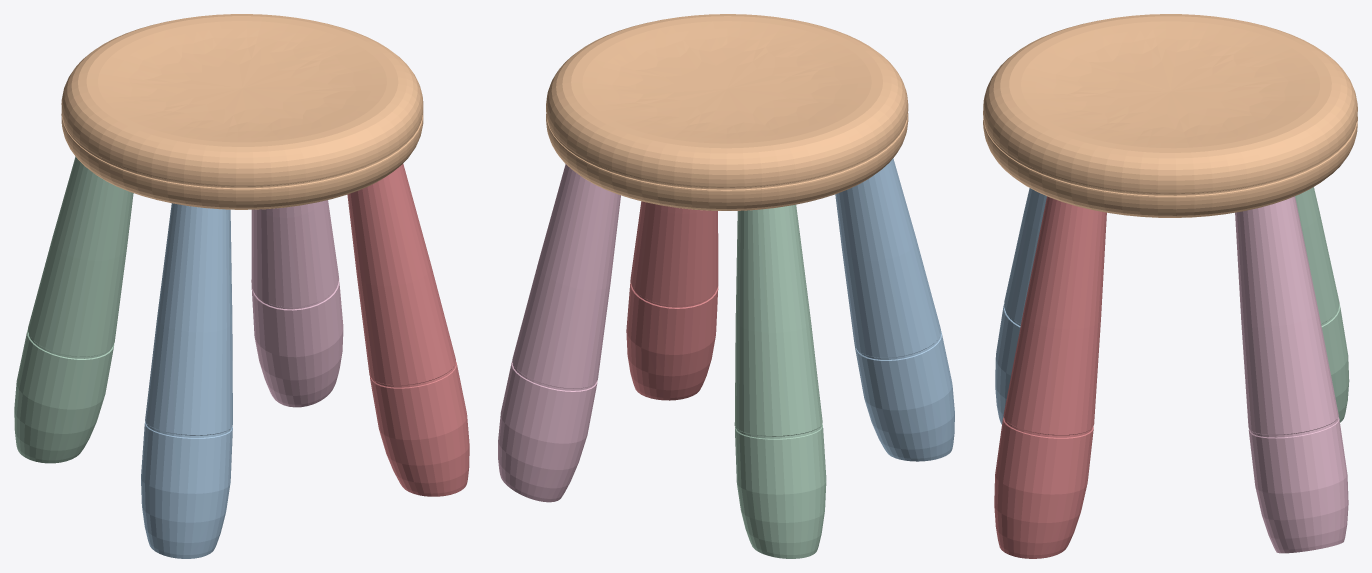
Rendered from 56568_assembly.glb.
3 views of the same model, side by side, from view 1: azimuth 30°, elevation 25°; view 2: azimuth 150°, elevation 25°; view 3: azimuth 270°, elevation 25° (orthographic). The views are drawn at different scales.
Visible parts, largest first — view 1: part_01, part_04, part_00, part_03, part_02; view 2: part_01, part_03, part_02, part_04, part_00; view 3: part_01, part_00, part_02, part_03, part_04.
Boxes of the visible parts, left/top/right/bottom form: part_01: left=61, top=14, right=423, bottom=209; part_04: left=141, top=203, right=232, bottom=558; part_00: left=347, top=163, right=469, bottom=496; part_03: left=14, top=156, right=133, bottom=463; part_02: left=251, top=200, right=343, bottom=407; part_01: left=546, top=14, right=908, bottom=210; part_03: left=734, top=204, right=826, bottom=558; part_02: left=498, top=164, right=620, bottom=502; part_04: left=835, top=158, right=954, bottom=461; part_00: left=626, top=201, right=718, bottom=400; part_01: left=983, top=14, right=1357, bottom=217; part_00: left=994, top=196, right=1106, bottom=558; part_02: left=1235, top=196, right=1348, bottom=553; part_03: left=1295, top=187, right=1349, bottom=422; part_04: left=995, top=188, right=1046, bottom=424.
Size of the model in its own units: 0.9754 by 1.16 by 0.9643.
